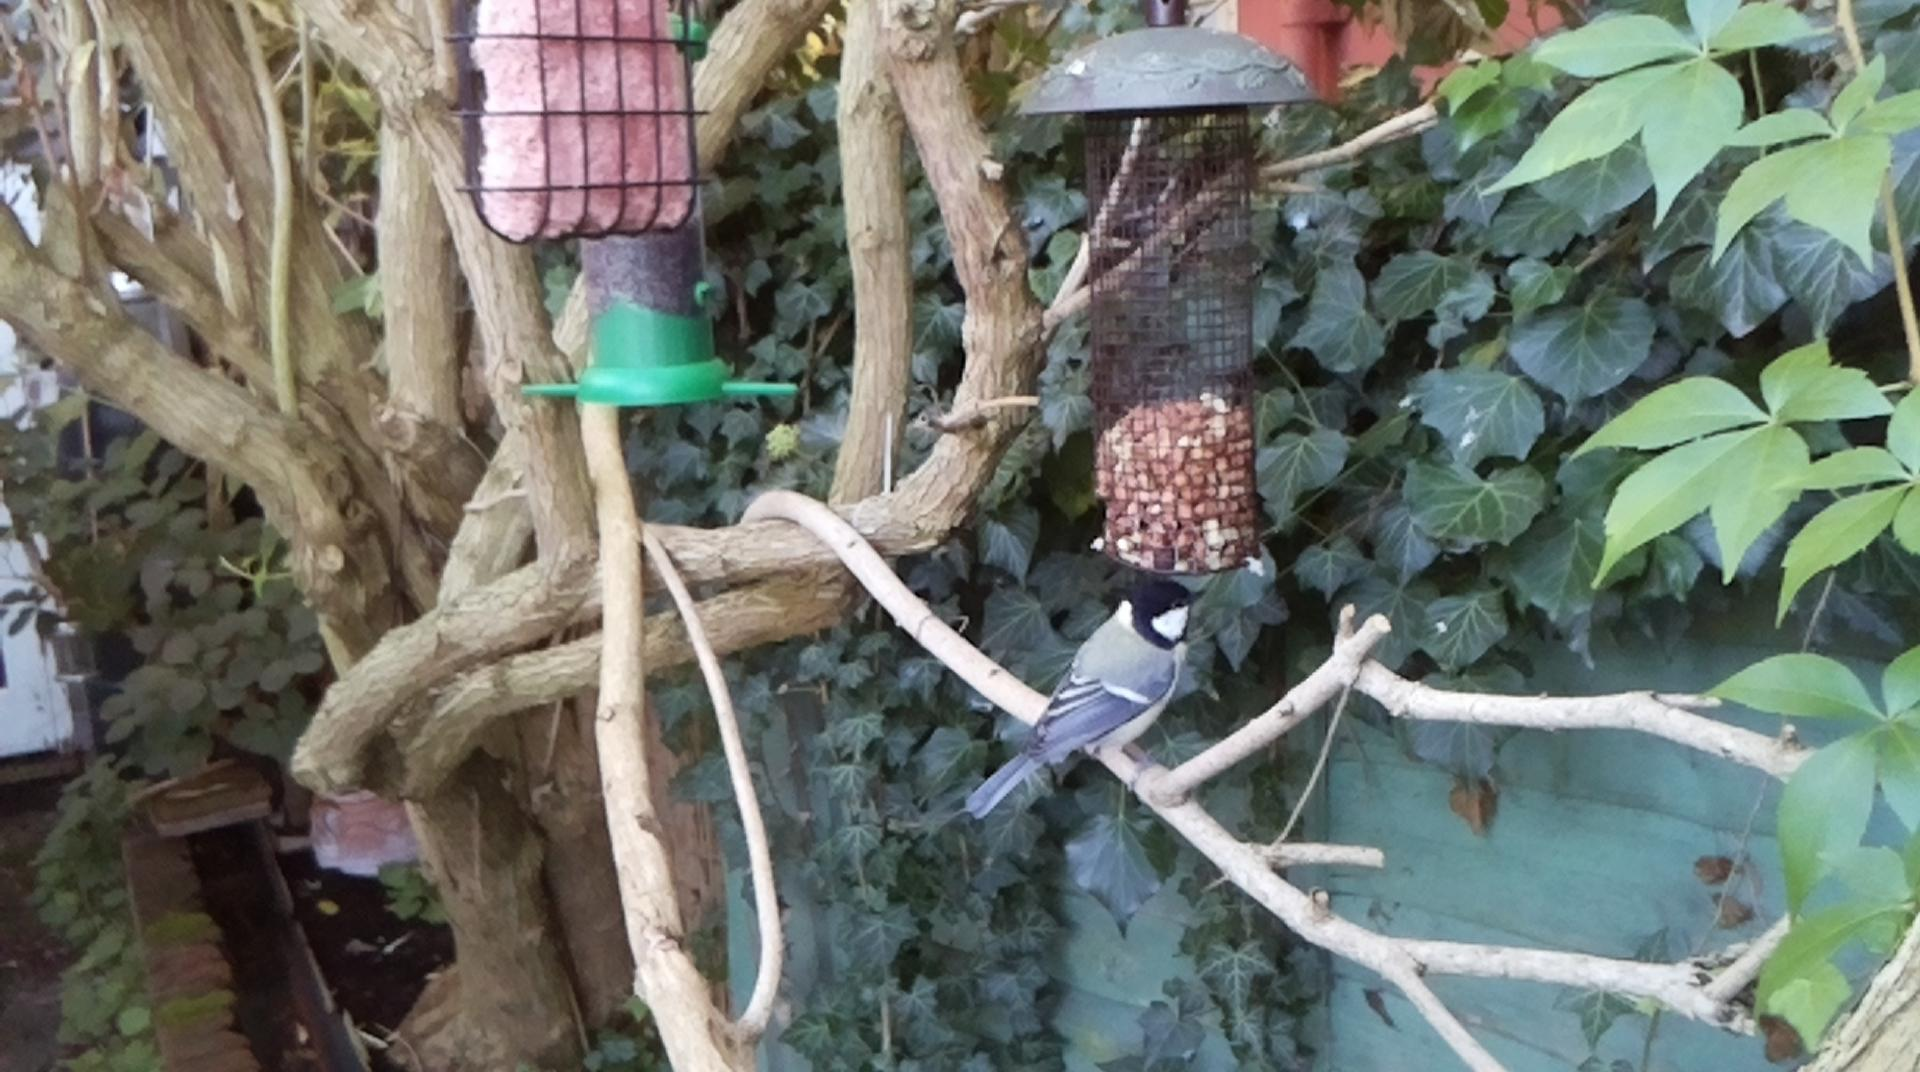great tit: (963, 576, 1208, 821)
